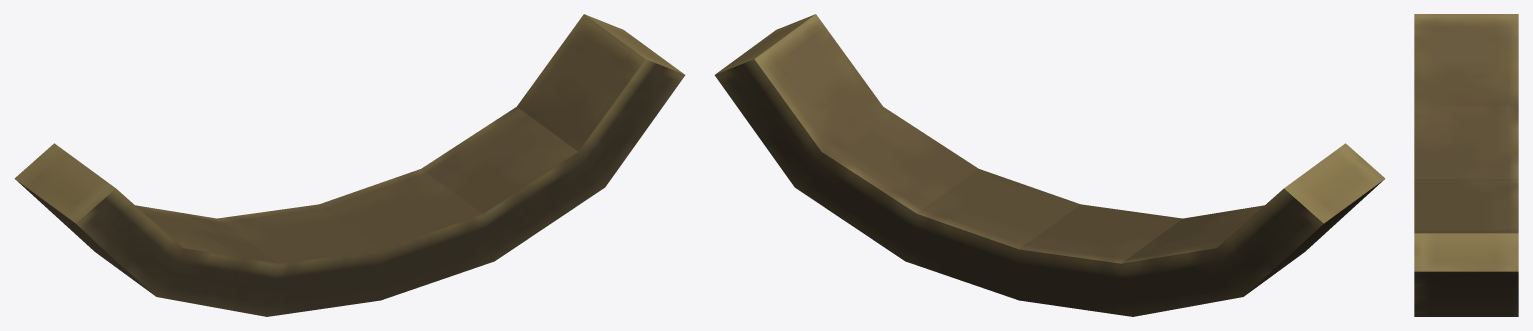
The model's file is yw_shanlin_postfirebasket_001.FBX.
The picture shows the model from 3 angles, left to right: view 1: azimuth 30°, elevation 25°; view 2: azimuth 150°, elevation 25°; view 3: azimuth 270°, elevation 25°; orthographic projection. The views are drawn at different scales.
Visible parts, largest first — view 1: yw_shanlin_postfirebasket_001; view 2: yw_shanlin_postfirebasket_001; view 3: yw_shanlin_postfirebasket_001.
Boxes of the visible parts, x1,y1,x2,y2 form: yw_shanlin_postfirebasket_001: [14, 14, 685, 316]; yw_shanlin_postfirebasket_001: [714, 14, 1385, 316]; yw_shanlin_postfirebasket_001: [1414, 14, 1518, 316].
Size of the model in its own units: 41.51 by 7.28 by 11.5.
